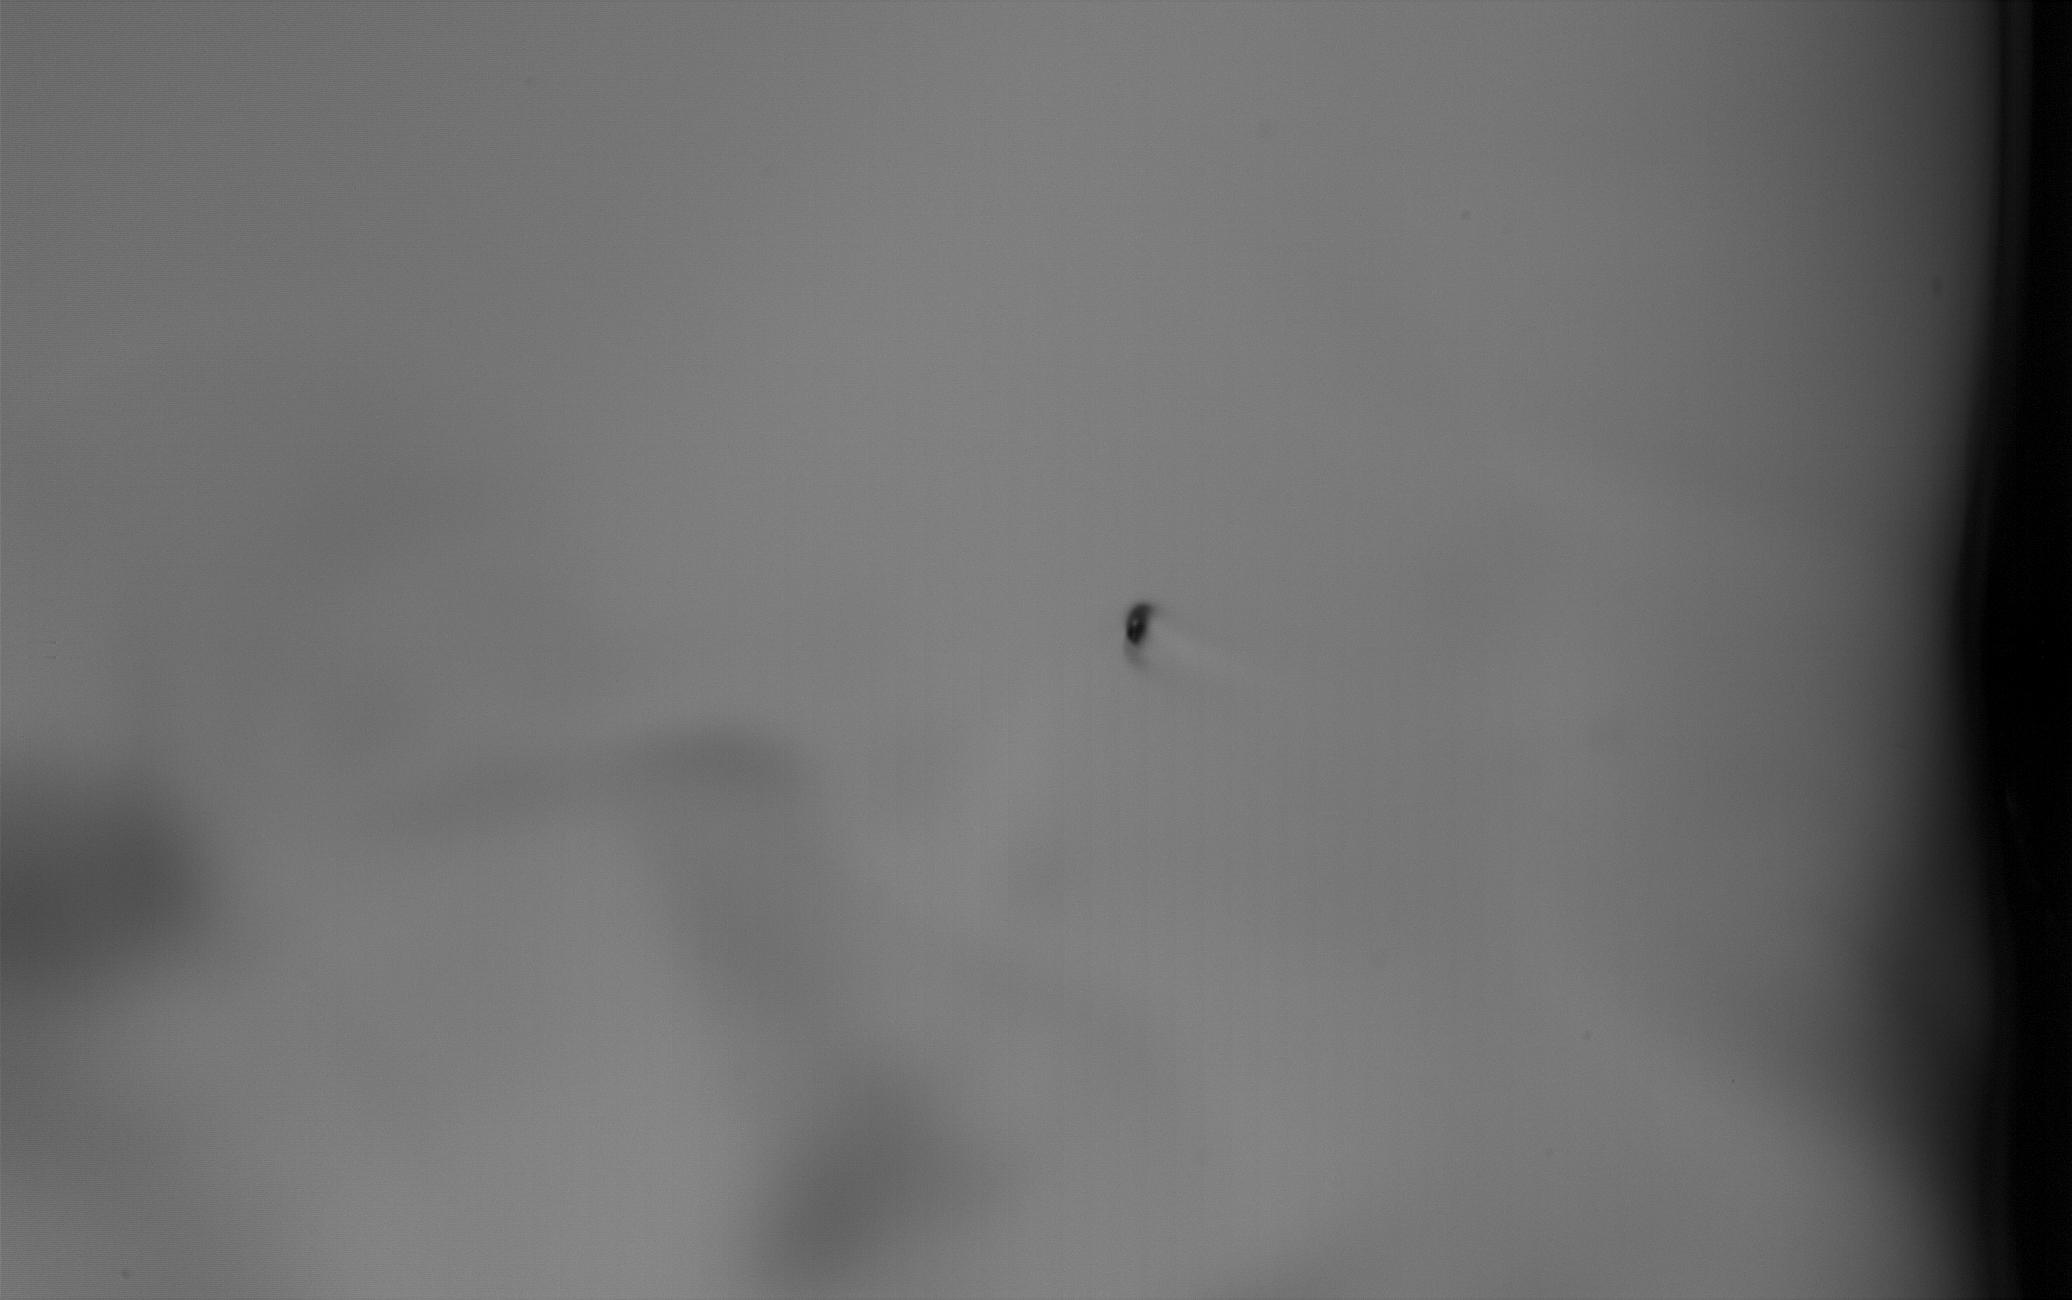TransitionalMixing: (1114, 592, 1157, 672)
